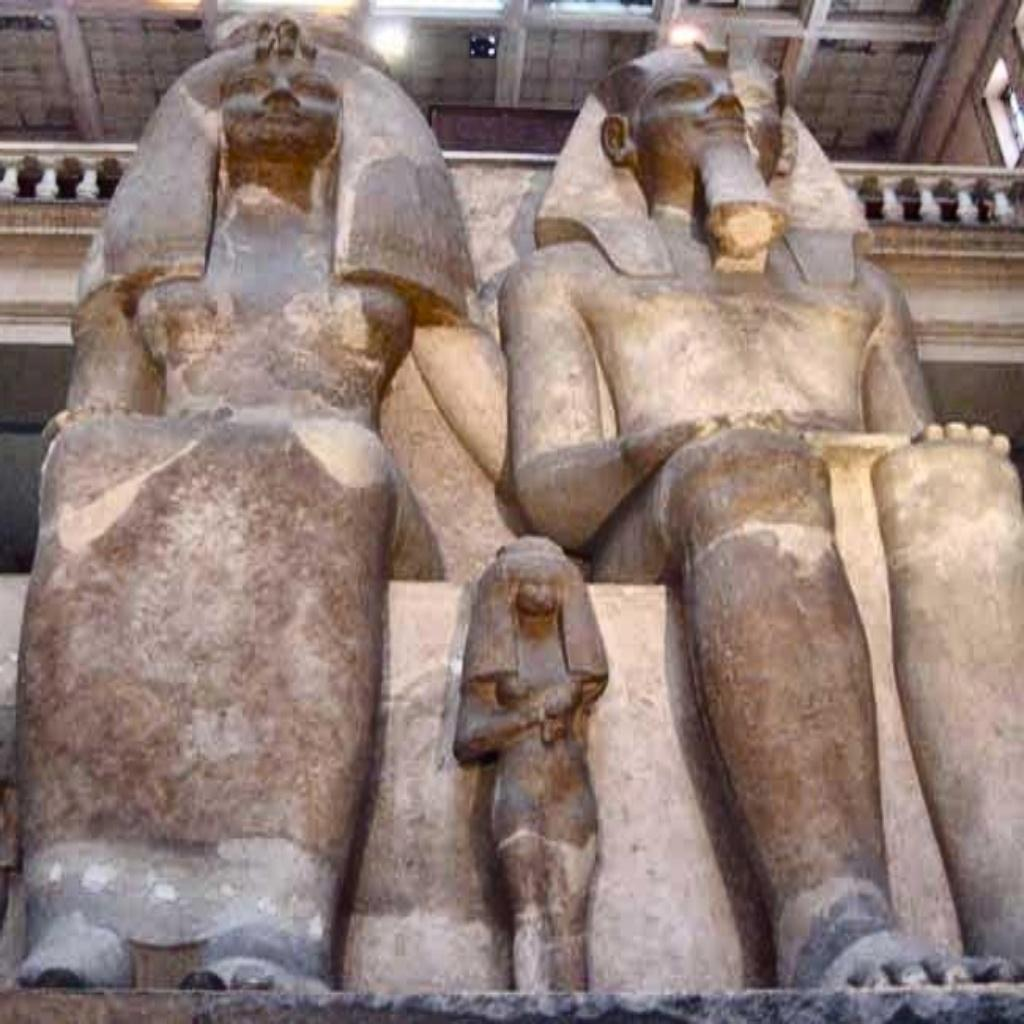Amenhotep III and Tiye: (18, 35, 1022, 1024)
